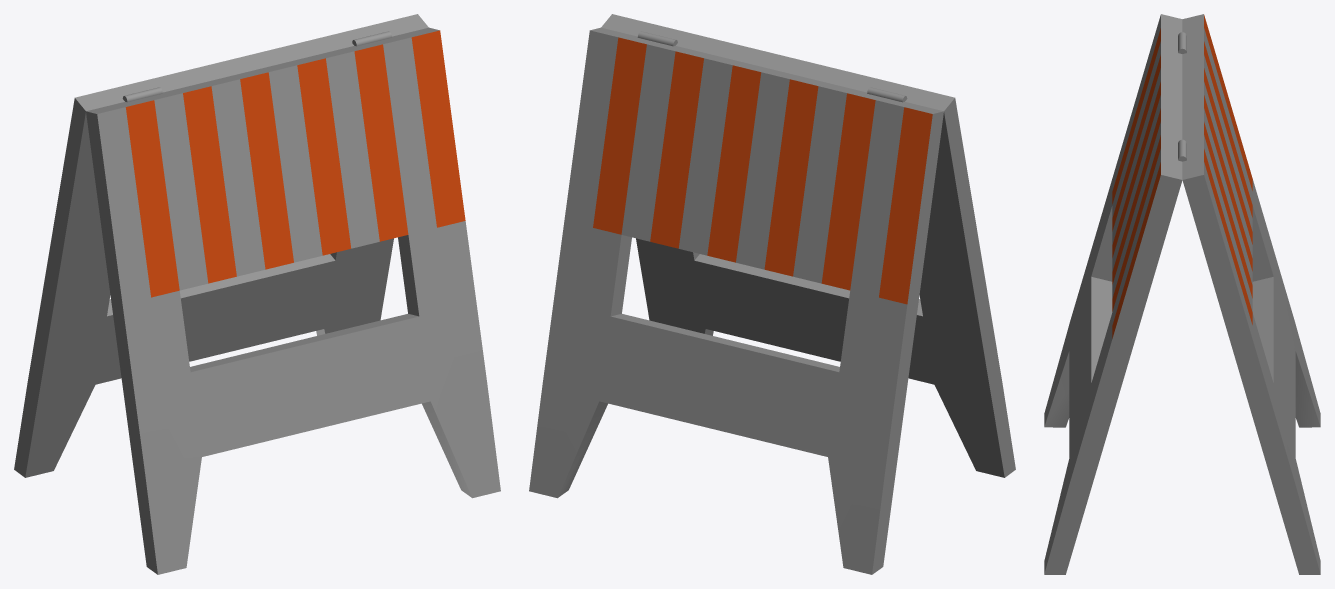
The model's file is Roadblock_Spencer.FBX.
The picture shows the model from 3 angles, left to right: view 1: azimuth 30°, elevation 25°; view 2: azimuth 150°, elevation 25°; view 3: azimuth 270°, elevation 25°; orthographic projection. The views are drawn at different scales.
Parts seen in each view (by area): view 1: Blocker; view 2: Blocker; view 3: Blocker.
Boxes of the visible parts, x1=… form: Blocker: x1=14, y1=14, x2=500, y2=574; Blocker: x1=529, y1=14, x2=1015, y2=574; Blocker: x1=1044, y1=14, x2=1320, y2=574.
Size of the model in its own units: 47.64 by 55.31 by 34.62.
